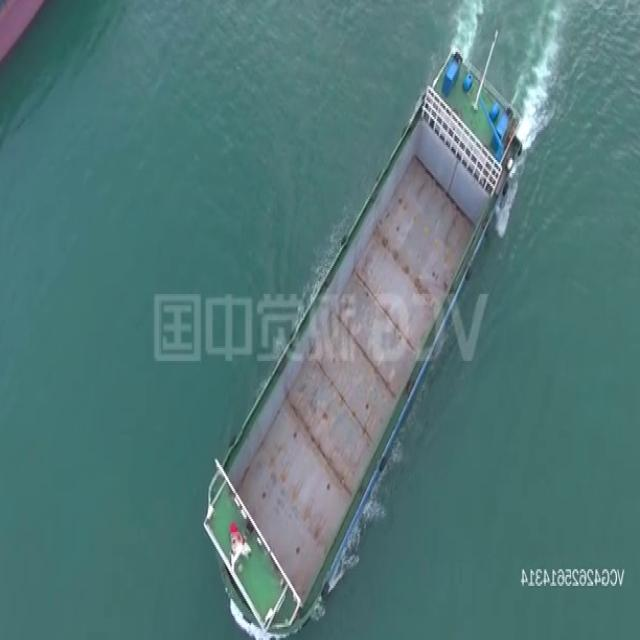cargoship: (200, 39, 521, 640)
